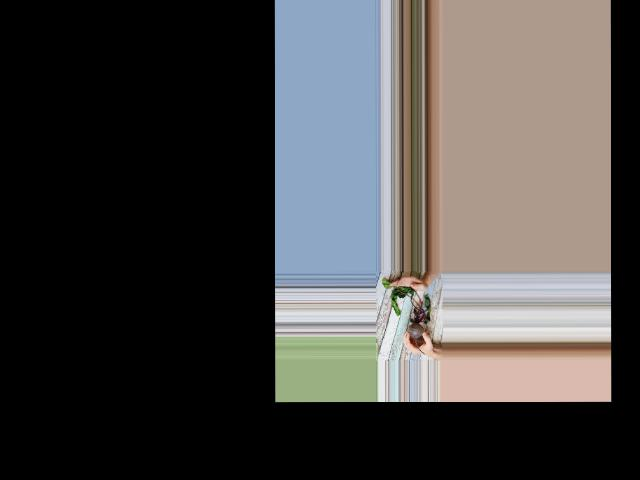beet: (381, 278, 430, 354)
